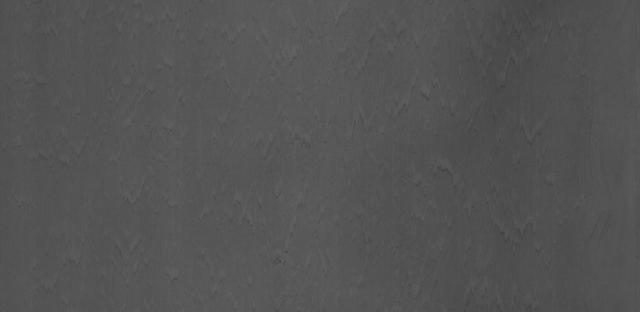silk_spot: (356, 51, 482, 248), (220, 46, 339, 246), (496, 43, 582, 247)
